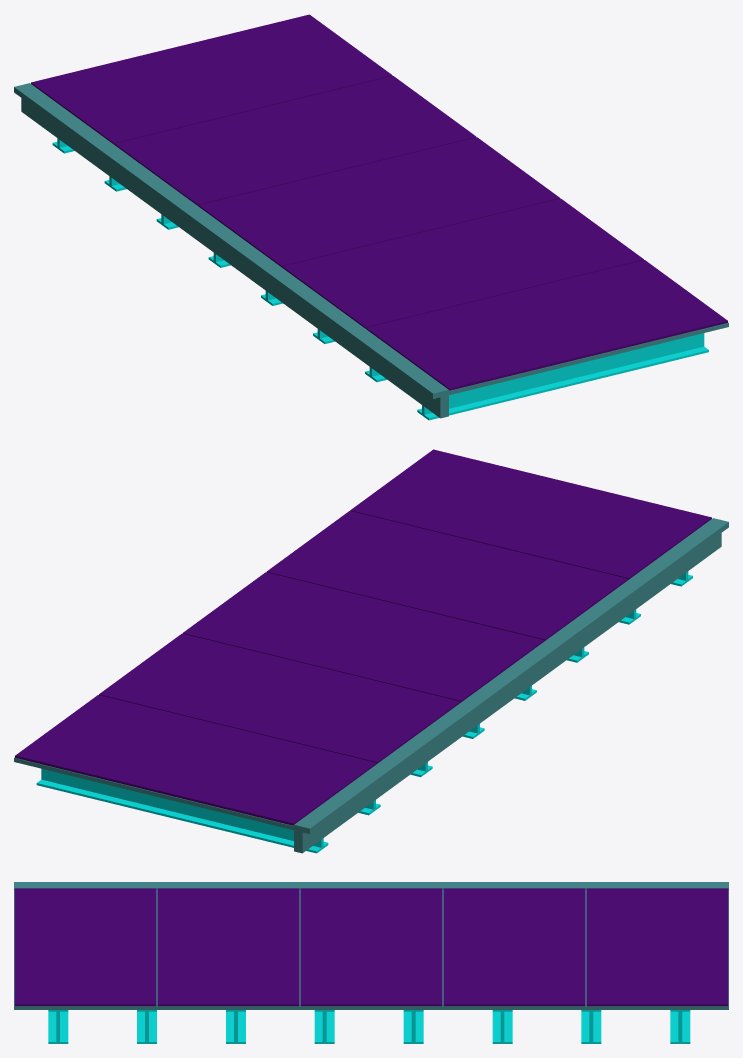
Rendered from UpperFloor.fbx.
3 renders of one model, top to bottom at view 1: azimuth 30°, elevation 25°; view 2: azimuth 150°, elevation 25°; view 3: azimuth 270°, elevation 25°, orthographic. The views are drawn at different scales.
Parts seen in each view (by area): view 1: UpperFloor; view 2: UpperFloor; view 3: UpperFloor.
Part boxes in pixels (x1=…): UpperFloor: x1=14, y1=14, x2=728, y2=420; UpperFloor: x1=14, y1=449, x2=728, y2=853; UpperFloor: x1=14, y1=882, x2=728, y2=1043.
Bounding box in the file's own units: 328 × 48.78 × 805.
